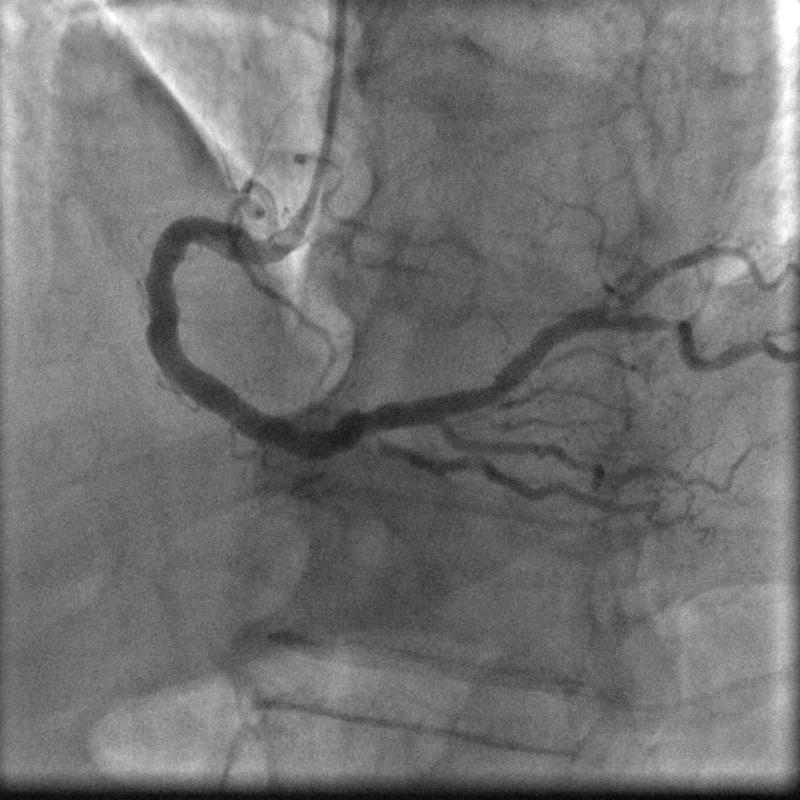Stenosis: (632, 310, 690, 337)
